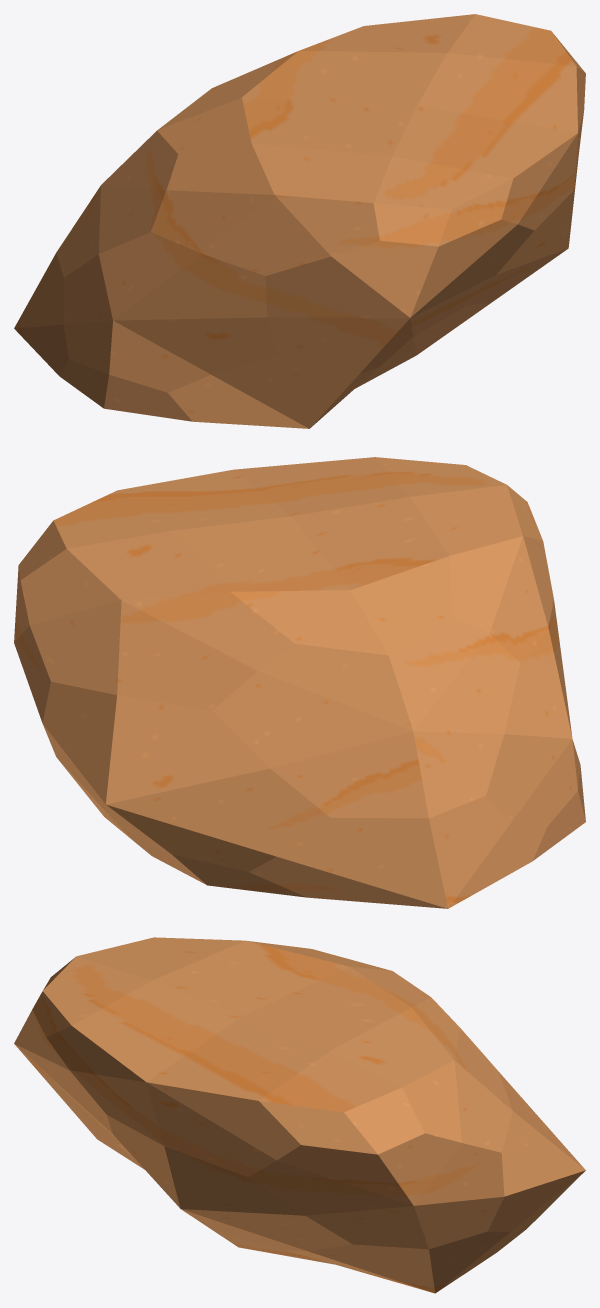
The model's file is rock4.fbx.
The picture shows the model from 3 angles, top to bottom: view 1: azimuth 30°, elevation 25°; view 2: azimuth 150°, elevation 25°; view 3: azimuth 270°, elevation 25°; orthographic projection. The views are drawn at different scales.
Visible parts, largest first — view 1: Plane; view 2: Plane; view 3: Plane.
Boxes of the visible parts, bbox=[...] form: Plane: bbox=[14, 14, 585, 428]; Plane: bbox=[14, 457, 585, 908]; Plane: bbox=[14, 937, 585, 1293].
Bounding box in the file's own units: 310 × 147 × 320.
Materials: 1 (1 with a texture image).
